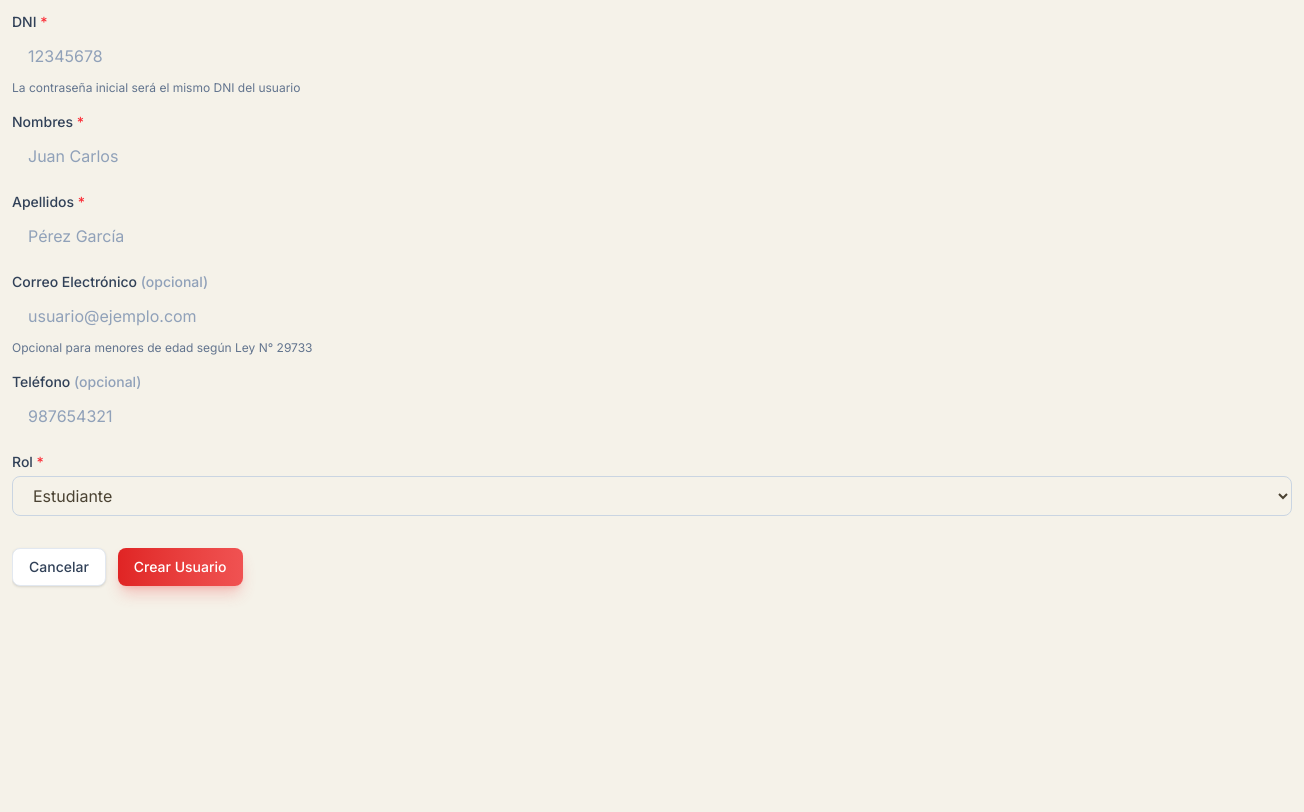
it: UserForm Component › should validate DNI with 8 digits
Note: DNI inválido (menos de 8 dígitos)
Type "1234567" into the field labelled "DNI *" at {"x": 652, "y": 56}, box [12, 36, 1292, 76]
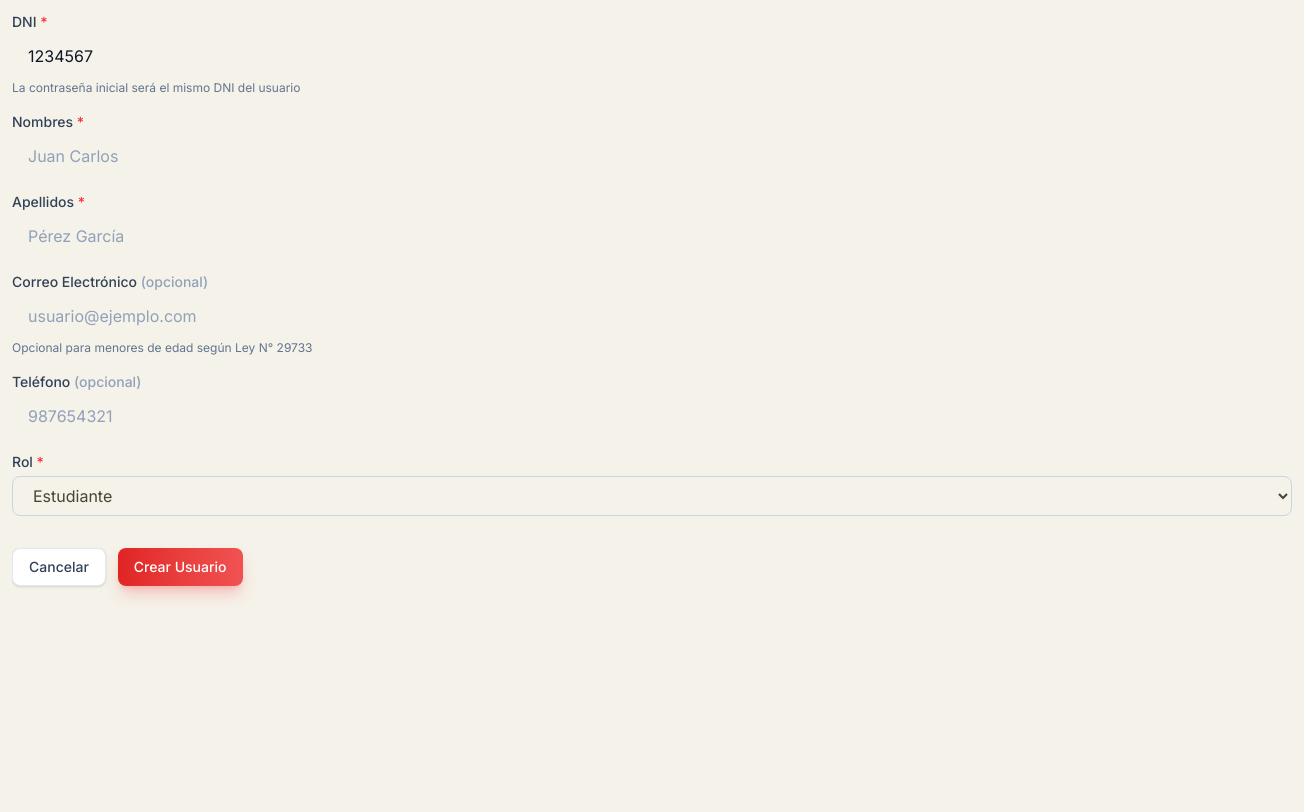
Click the button "Crear Usuario" at {"x": 180, "y": 567}, box [118, 548, 242, 586]
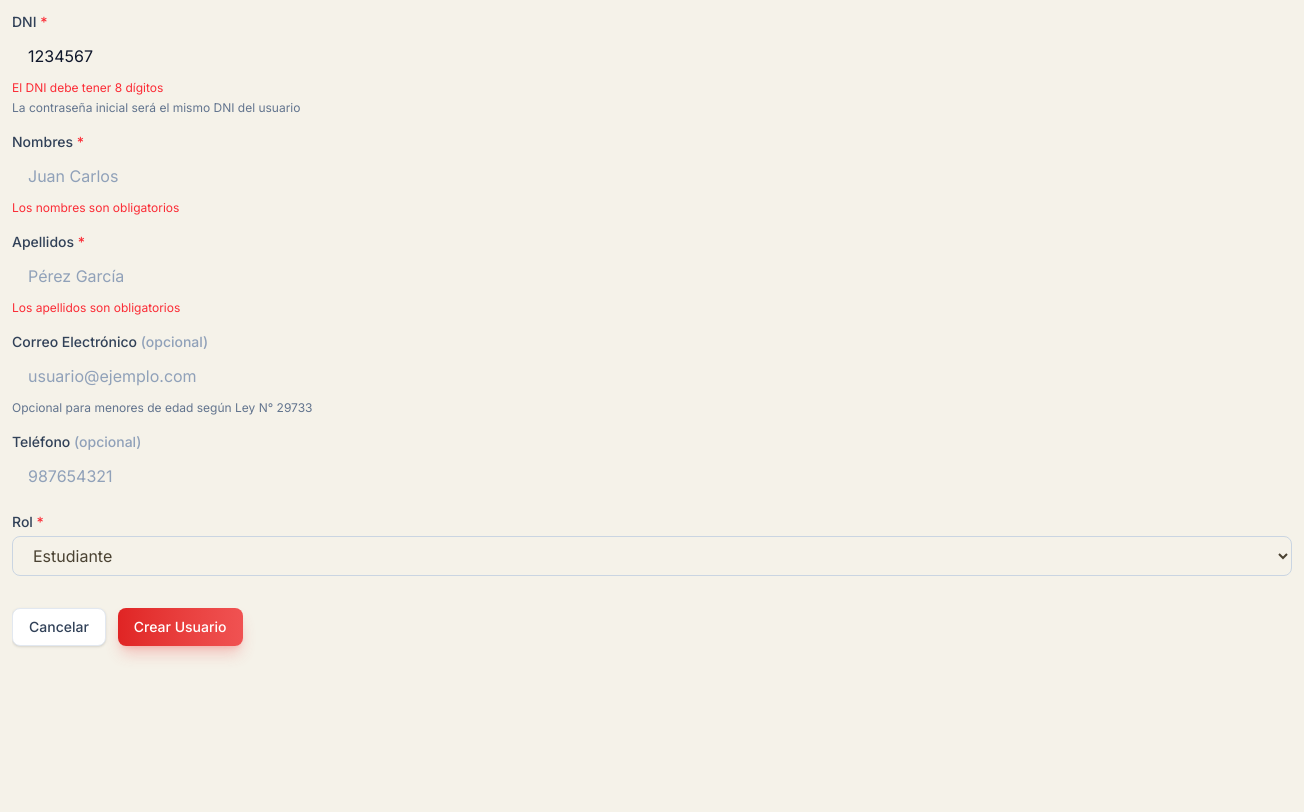
Now the text "El DNI debe tener 8 dígitos" is shown, box [12, 80, 163, 95]
